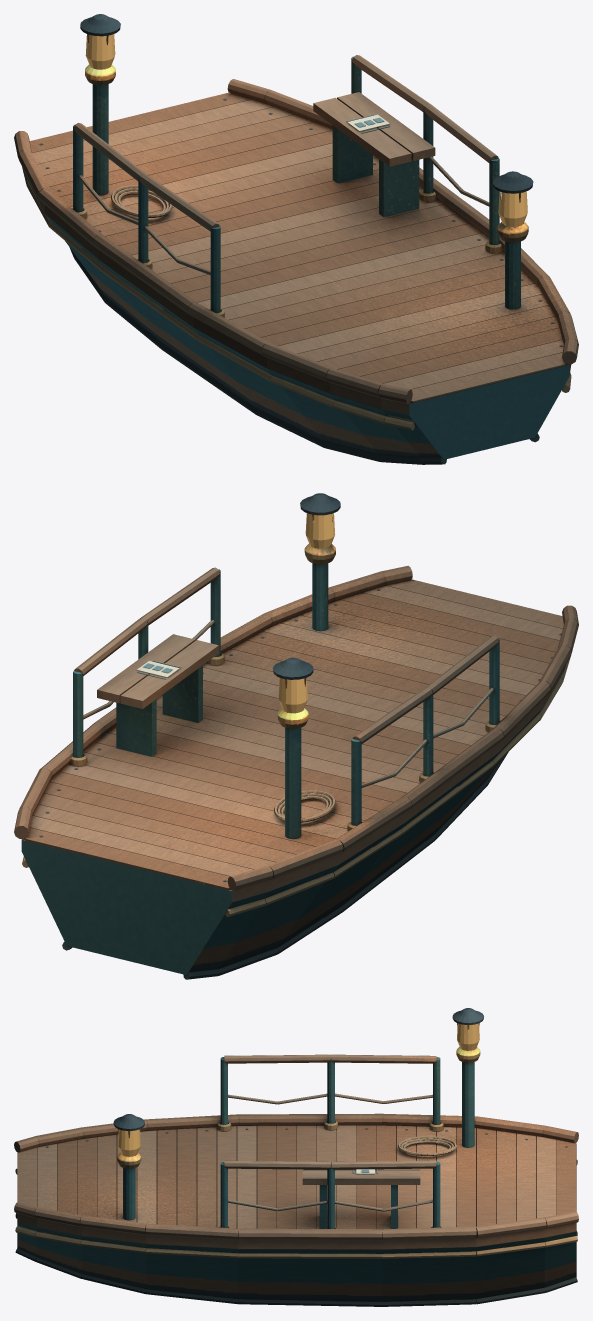
The model's file is harbor-boat.glb.
3 renders of one model, top to bottom at view 1: azimuth 30°, elevation 25°; view 2: azimuth 150°, elevation 25°; view 3: azimuth 270°, elevation 25°, orthographic. The views are drawn at different scales.
Parts seen in each view (by area): view 1: FerryTimber, BowGlass, SternGlass; view 2: FerryTimber, SternGlass, BowGlass; view 3: FerryTimber, BowGlass, SternGlass.
Part boxes in pixels (box(x1,y1,x2,y2)): FerryTimber: box(14, 14, 578, 464); BowGlass: box(498, 191, 527, 226); SternGlass: box(85, 34, 115, 69); FerryTimber: box(14, 493, 578, 979); SternGlass: box(278, 677, 307, 713); BowGlass: box(305, 513, 335, 548); FerryTimber: box(14, 1008, 578, 1306); BowGlass: box(118, 1129, 140, 1156); SternGlass: box(457, 1023, 479, 1050).
Size of the model in its own units: 2.16 by 1.91 by 4.28.
Materials: 2 (1 with a texture image).
